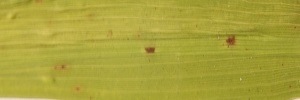RiceBrownSpot: (222, 32, 242, 50), (141, 42, 162, 59)
